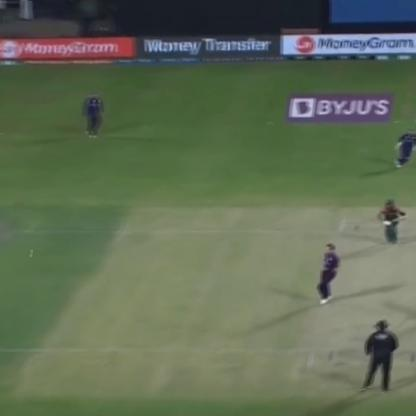ball: (27, 248, 35, 255), (28, 254, 34, 258)
pitch: (311, 203, 415, 406)
